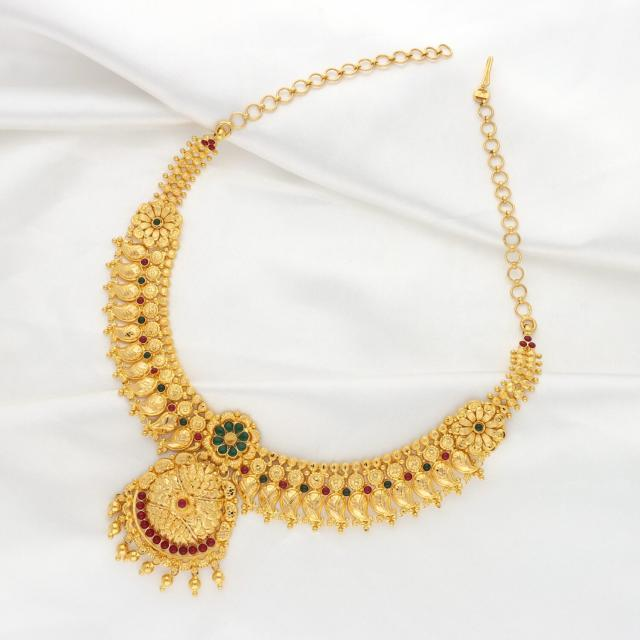missing gem: (225, 434, 236, 444)
